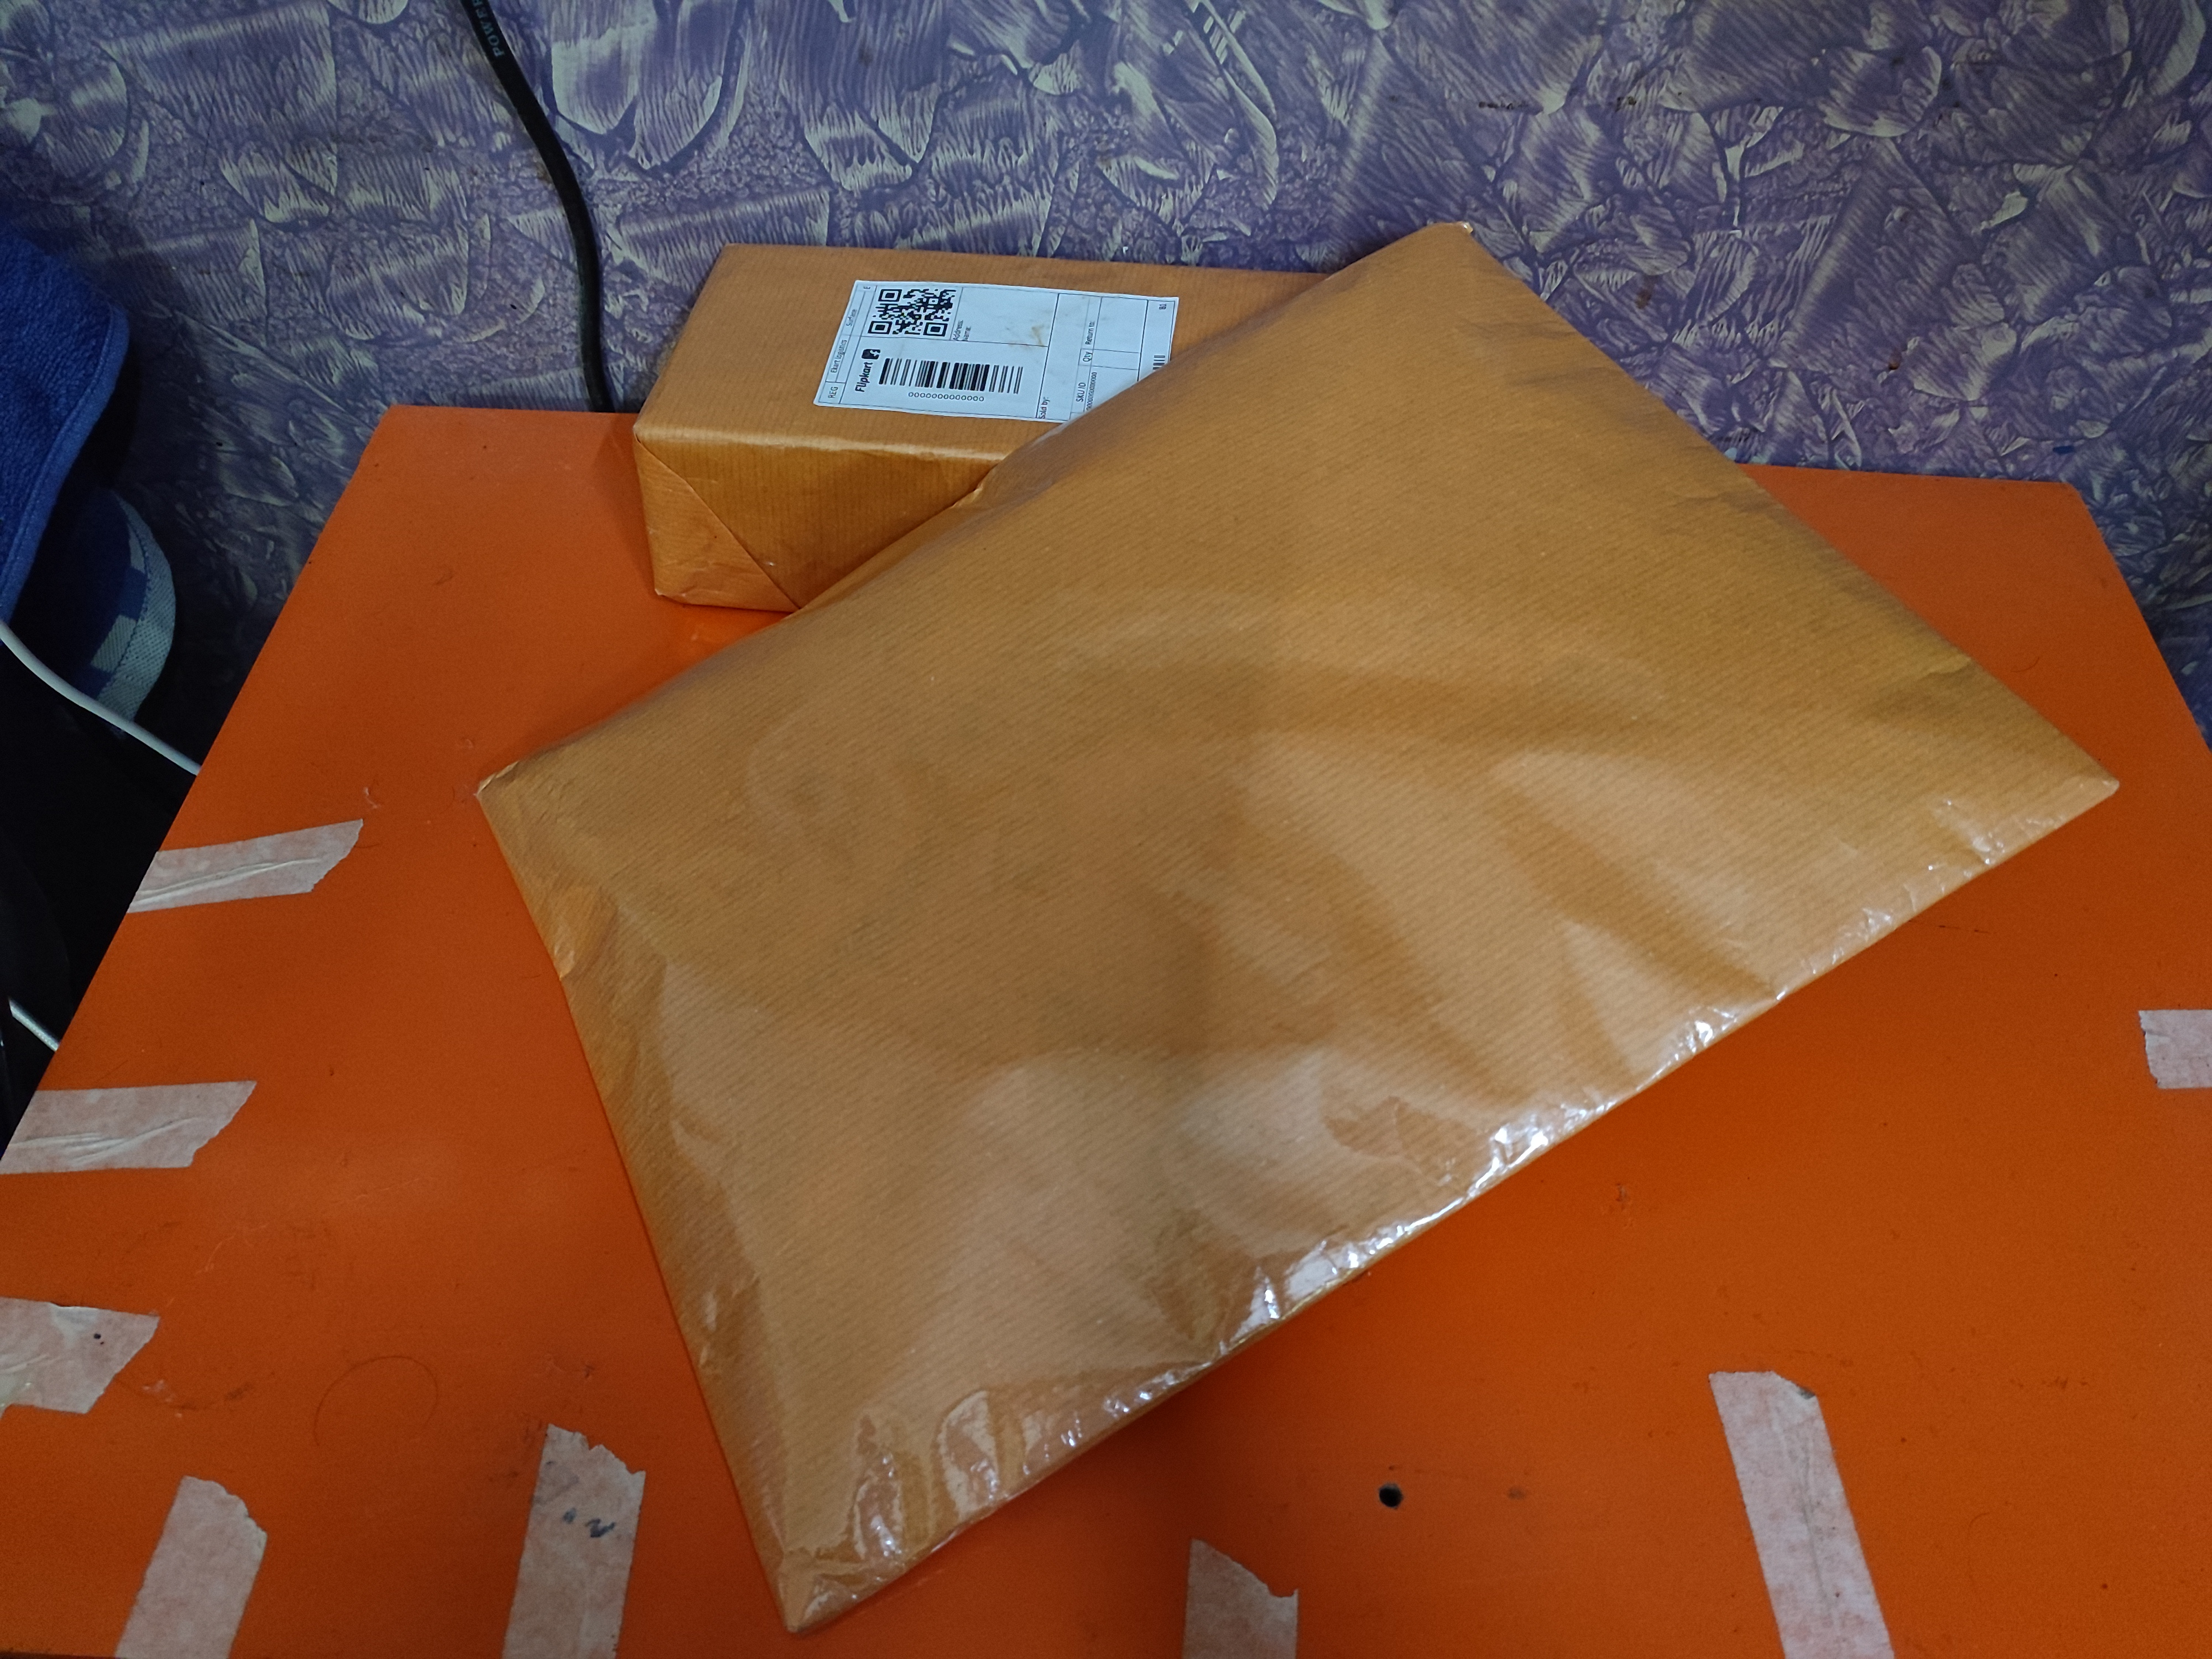Box: (413, 246, 2020, 1502), (587, 160, 1440, 664)
